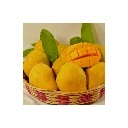mango: (55, 63, 87, 96), (28, 63, 58, 94)
